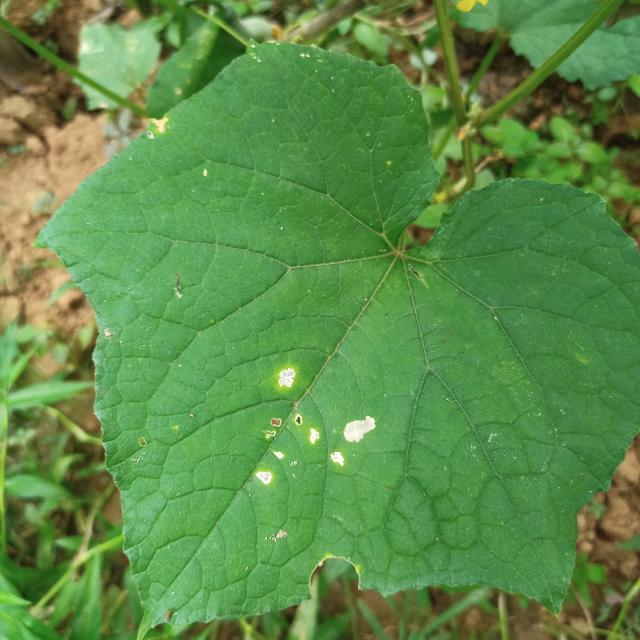disease_cucumber: (256, 367, 374, 489)
